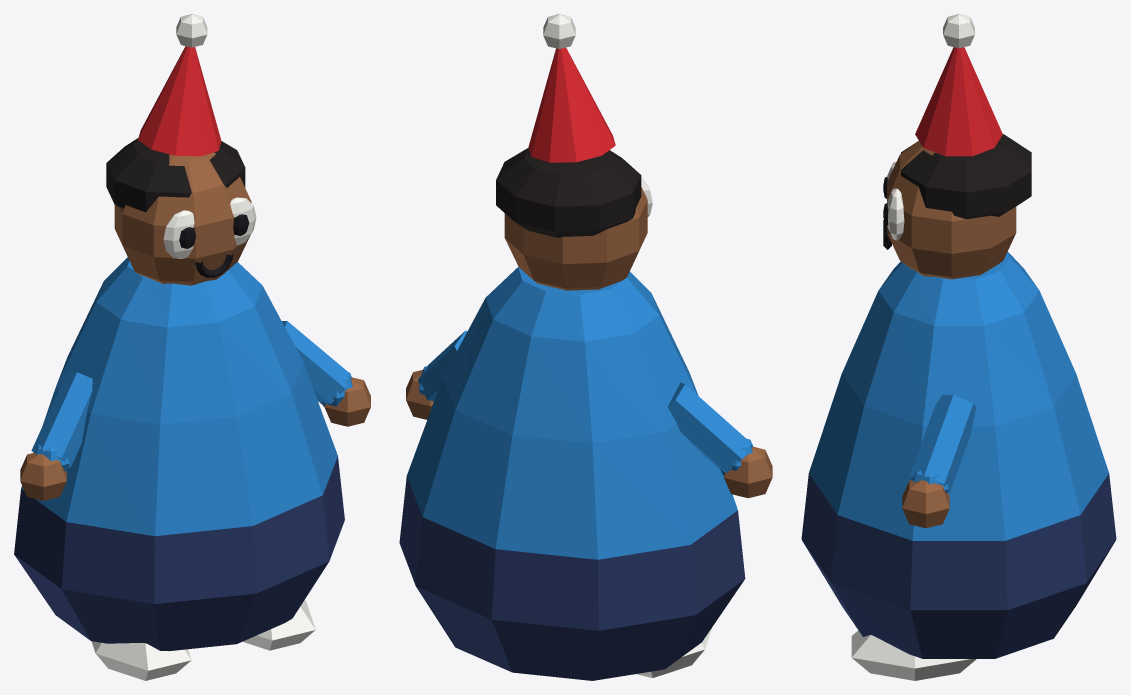
Rendered from npc_nene_fiesta.glb.
3 renders of one model, left to right at view 1: azimuth 30°, elevation 25°; view 2: azimuth 150°, elevation 25°; view 3: azimuth 270°, elevation 25°, orthographic. The views are drawn at different scales.
Parts seen in each view (by area): view 1: body_kid_shirt_blue, body_kid_shorts, head_skin_cacao, arms_kid_shirt_blue, hat_hat_red, head_hair_black, legs_kid_shoes, arms_skin_cacao, face_white, face_black, hat_white; view 2: body_kid_shirt_blue, body_kid_shorts, head_hair_black, head_skin_cacao, hat_hat_red, arms_kid_shirt_blue, arms_skin_cacao, hat_white, legs_kid_shoes; view 3: body_kid_shirt_blue, body_kid_shorts, head_skin_cacao, head_hair_black, hat_hat_red, arms_kid_shirt_blue, legs_kid_shoes, arms_skin_cacao, hat_white, face_white.
Part boxes in pixels (x1=…): body_kid_shirt_blue: x1=21, y1=257, x2=337, y2=536; body_kid_shorts: x1=14, y1=456, x2=344, y2=651; head_skin_cacao: x1=114, y1=152, x2=251, y2=285; arms_kid_shirt_blue: x1=31, y1=321, x2=352, y2=472; hat_hat_red: x1=138, y1=46, x2=221, y2=156; head_hair_black: x1=106, y1=138, x2=245, y2=212; legs_kid_shoes: x1=91, y1=600, x2=315, y2=680; arms_skin_cacao: x1=20, y1=377, x2=370, y2=500; face_white: x1=163, y1=197, x2=256, y2=258; face_black: x1=179, y1=214, x2=249, y2=277; hat_white: x1=176, y1=14, x2=207, y2=47; body_kid_shirt_blue: x1=407, y1=267, x2=737, y2=559; body_kid_shorts: x1=399, y1=476, x2=745, y2=680; head_hair_black: x1=496, y1=148, x2=641, y2=237; head_skin_cacao: x1=504, y1=151, x2=647, y2=290; hat_hat_red: x1=528, y1=47, x2=615, y2=162; arms_kid_shirt_blue: x1=417, y1=330, x2=753, y2=475; arms_skin_cacao: x1=406, y1=370, x2=772, y2=498; hat_white: x1=543, y1=14, x2=575, y2=48; legs_kid_shoes: x1=636, y1=627, x2=712, y2=677; body_kid_shirt_blue: x1=809, y1=252, x2=1108, y2=540; body_kid_shorts: x1=801, y1=473, x2=1116, y2=658; head_skin_cacao: x1=887, y1=141, x2=1016, y2=279; head_hair_black: x1=901, y1=134, x2=1031, y2=219; hat_hat_red: x1=915, y1=47, x2=1002, y2=156; arms_kid_shirt_blue: x1=909, y1=395, x2=976, y2=493; legs_kid_shoes: x1=851, y1=630, x2=976, y2=680; arms_skin_cacao: x1=902, y1=480, x2=949, y2=528; hat_white: x1=943, y1=14, x2=974, y2=48; face_white: x1=887, y1=161, x2=904, y2=240.
Bounding box in the file's own units: 1.13 × 1.91 × 0.86.
